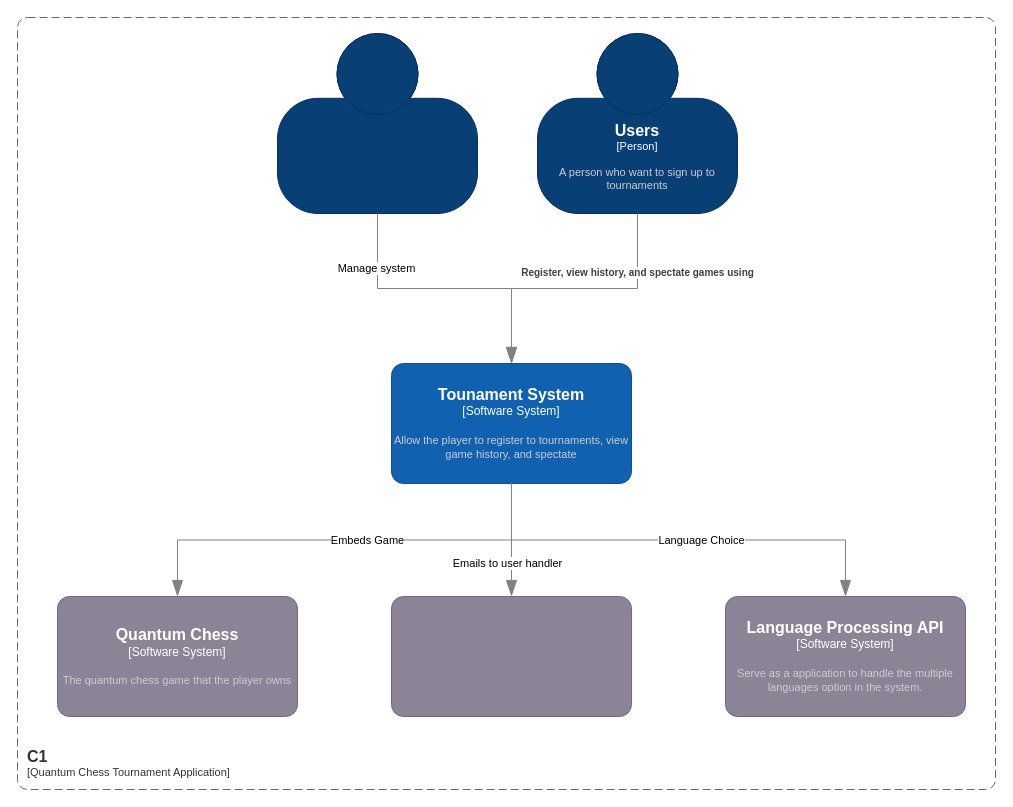
Image size: 1013x807. Some labels were removed from this diagram. The shapes that lost their labels are listed below. From the top down, each one's centre as x and y in pixels, then its label:
At point 377,123: "Admin [Person] Person who manages tournaments and users information.".
At point 511,656: "Email Service [Software System] Handle the emails that the user can receive".
